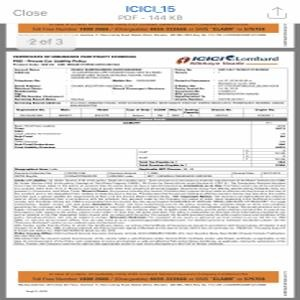image: (173, 53, 282, 69)
table: (13, 119, 287, 179), (13, 105, 290, 118)
text: (13, 179, 286, 245), (11, 67, 288, 104), (11, 50, 138, 67)
